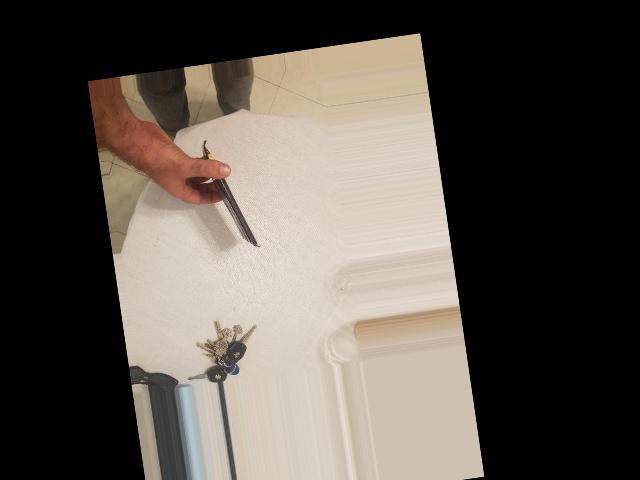chocolate: (190, 143, 267, 260)
